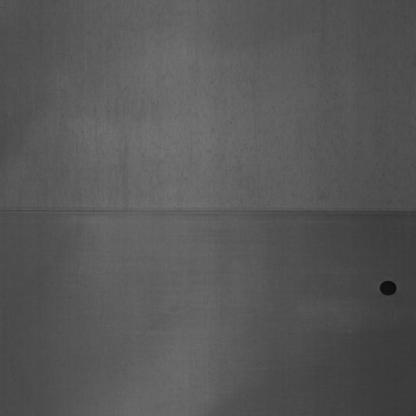punching_hole: (378, 276, 399, 302)
welding_line: (2, 192, 412, 230)
